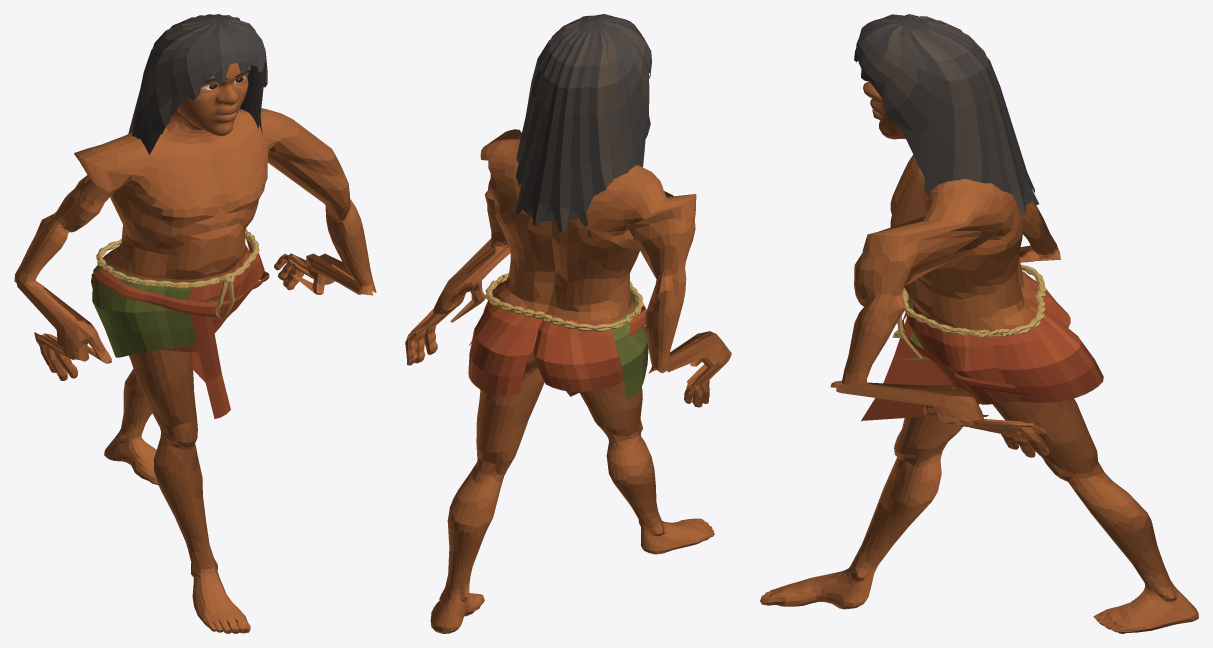
Rendered from homem_04.glb.
The picture shows the model from 3 angles, left to right: view 1: azimuth 30°, elevation 25°; view 2: azimuth 150°, elevation 25°; view 3: azimuth 270°, elevation 25°; orthographic projection. The views are drawn at different scales.
Visible parts, largest first — view 1: homem_04_corpo; view 2: homem_04_corpo; view 3: homem_04_corpo.
Part boxes in pixels (x1,y1,x2,y2): homem_04_corpo: (14, 14, 376, 633); homem_04_corpo: (405, 14, 731, 633); homem_04_corpo: (760, 14, 1198, 633).
Size of the model in its own units: 0.8763 by 1.67 by 1.1.
